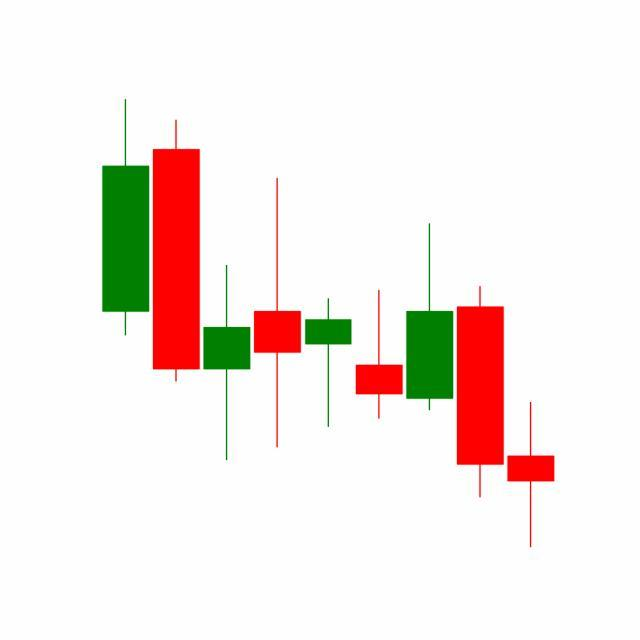Hikkake Pattern: (252, 175, 506, 502)
